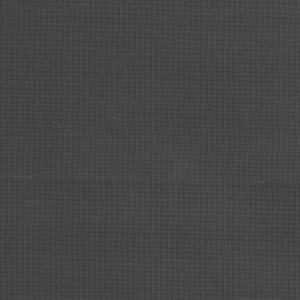Wrinkle: (54, 79, 253, 300), (1, 172, 300, 201)
